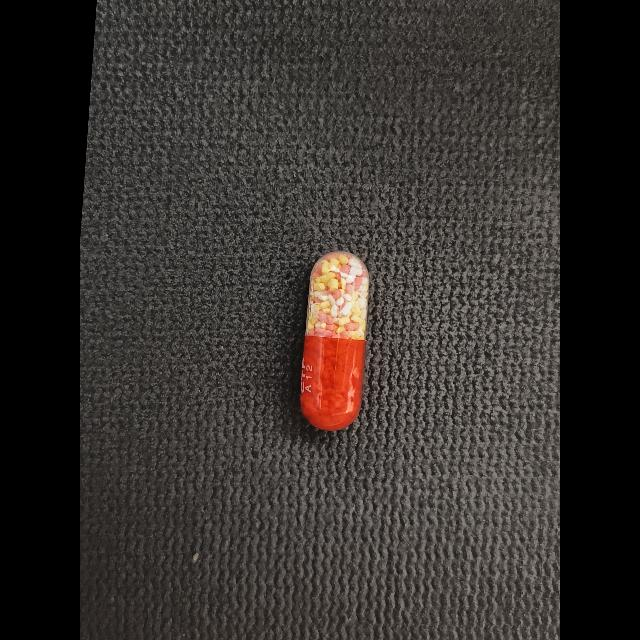Intact Capsule: (300, 251, 369, 431)
